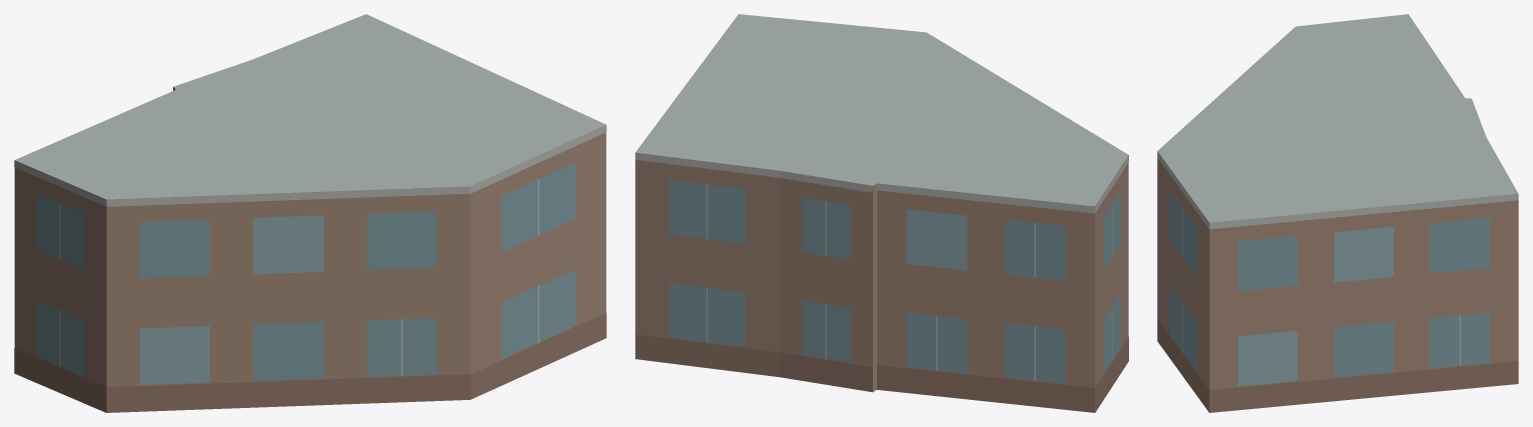
File: survey-upis-32638252.glb
3 renders of one model, left to right at view 1: azimuth 30°, elevation 25°; view 2: azimuth 150°, elevation 25°; view 3: azimuth 270°, elevation 25°, orthographic. The views are drawn at different scales.
Parts seen in each view (by area): view 1: survey-upis-32638252.tmp; view 2: survey-upis-32638252.tmp; view 3: survey-upis-32638252.tmp.
Boxes of the visible parts, left/top/right/bottom form: survey-upis-32638252.tmp: left=14, top=14, right=606, bottom=412; survey-upis-32638252.tmp: left=635, top=14, right=1128, bottom=412; survey-upis-32638252.tmp: left=1157, top=14, right=1518, bottom=412.
Size of the model in its own units: 16.74 by 7.1 by 12.24.
